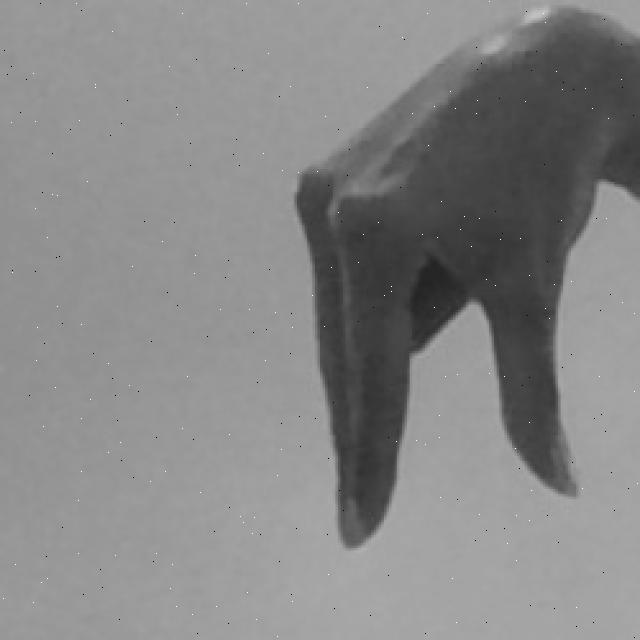Q: (280, 0, 640, 556)
